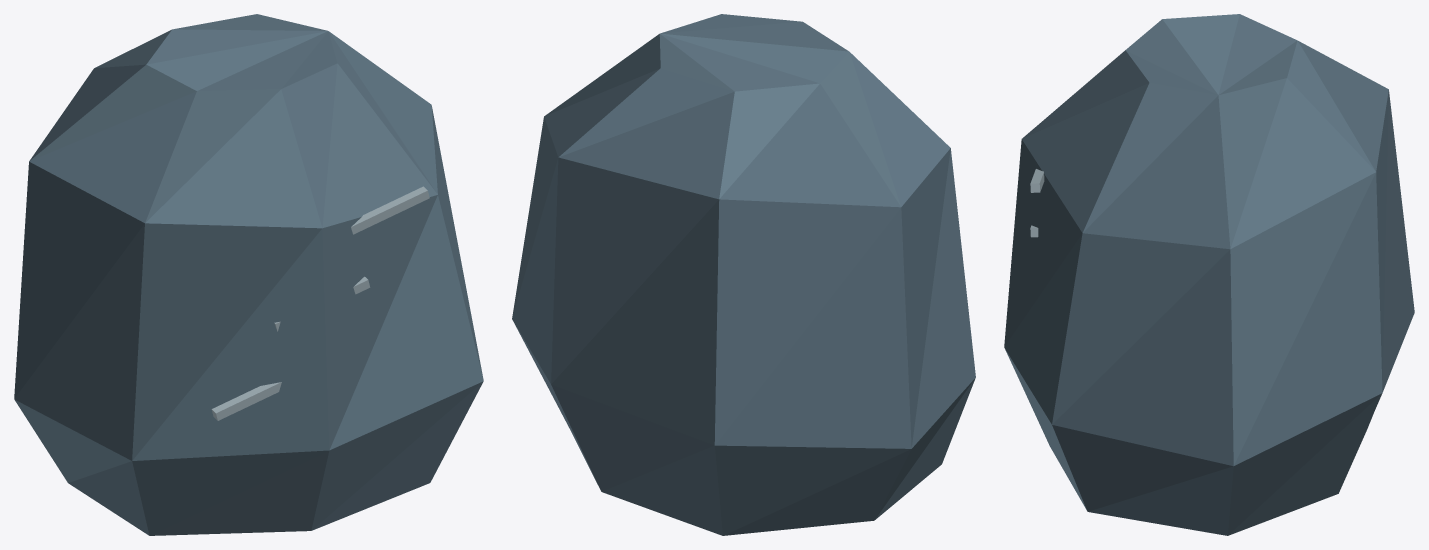
Rendered from rock_node_frost_b.glb.
The picture shows the model from 3 angles, left to right: view 1: azimuth 30°, elevation 25°; view 2: azimuth 150°, elevation 25°; view 3: azimuth 270°, elevation 25°; orthographic projection. The views are drawn at different scales.
Visible parts, largest first — view 1: geometry; view 2: geometry; view 3: geometry.
Part boxes in pixels (x1,y1,x2,y2): geometry: [14, 14, 483, 535]; geometry: [512, 14, 975, 535]; geometry: [1004, 14, 1414, 535].
Bounding box in the file's own units: 0.7093 × 0.66 × 0.6137.
